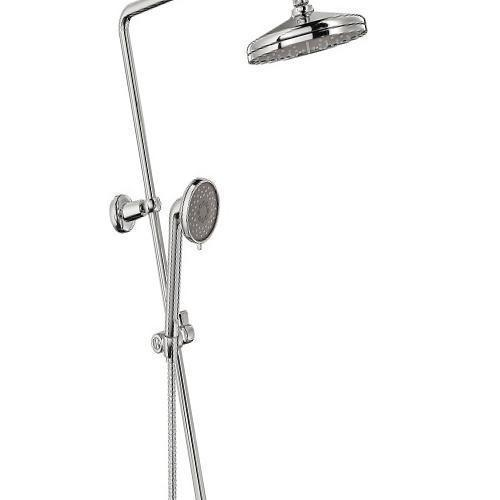Ducha: (83, 0, 402, 496)
